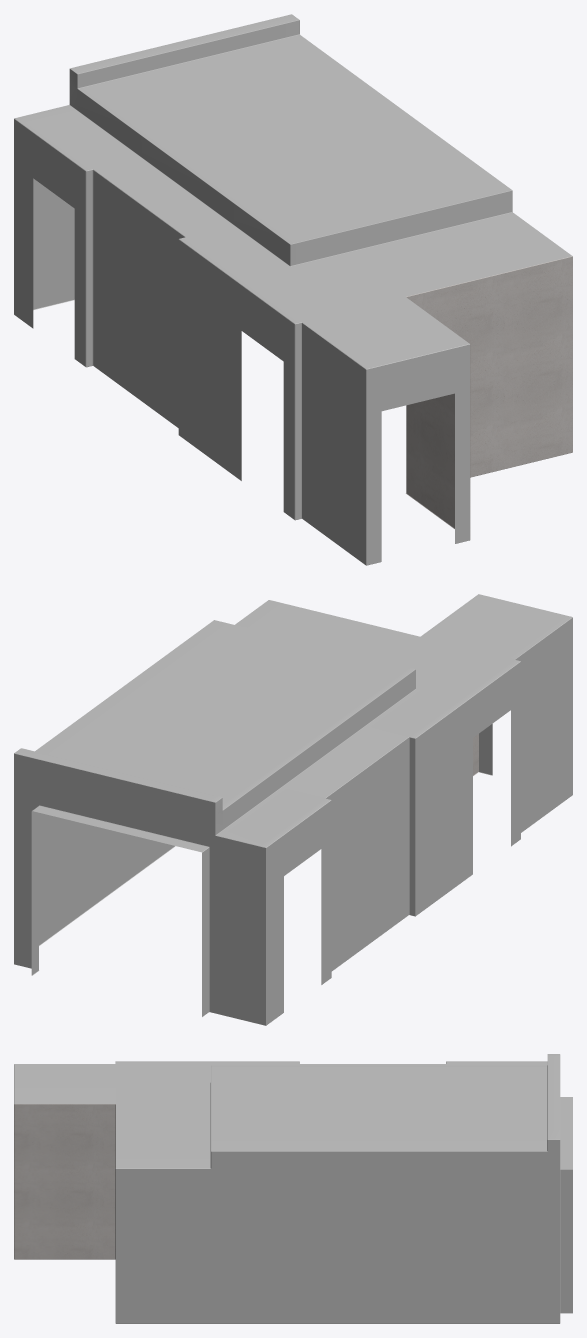
The model's file is Room.obj.
3 renders of one model, top to bottom at view 1: azimuth 30°, elevation 25°; view 2: azimuth 150°, elevation 25°; view 3: azimuth 270°, elevation 25°, orthographic. The views are drawn at different scales.
Parts seen in each view (by area): view 1: SM_Room_7_SM_CeilingPiece, WallPiece4_28_SM_WallPiece4, WallPiece2_24_SM_WallPiece2.001, WallPiece3_26_SM_WallPiece3, WallPiece5_30_SM_WallPiece5; view 2: SM_Room_7_SM_CeilingPiece, WallPiece4_28_SM_WallPiece4, WallPiece5_30_SM_WallPiece5, WallPiece3_26_SM_WallPiece3, WallPiece1_22_SM_WallPiece1; view 3: WallPiece1_22_SM_WallPiece1, SM_Room_7_SM_CeilingPiece, WallPiece2_24_SM_WallPiece2.001, WallPiece5_30_SM_WallPiece5.
Part boxes in pixels (left/top/right/bottom): SM_Room_7_SM_CeilingPiece: left=15, top=14, right=572, bottom=368; WallPiece4_28_SM_WallPiece4: left=14, top=118, right=294, bottom=519; WallPiece2_24_SM_WallPiece2.001: left=406, top=256, right=572, bottom=539; WallPiece3_26_SM_WallPiece3: left=294, top=322, right=469, bottom=565; WallPiece5_30_SM_WallPiece5: left=33, top=178, right=74, bottom=310; SM_Room_7_SM_CeilingPiece: left=14, top=594, right=571, bottom=847; WallPiece4_28_SM_WallPiece4: left=266, top=661, right=520, bottom=1025; WallPiece5_30_SM_WallPiece5: left=14, top=753, right=265, bottom=1025; WallPiece3_26_SM_WallPiece3: left=479, top=617, right=572, bottom=832; WallPiece1_22_SM_WallPiece1: left=39, top=813, right=175, bottom=945; WallPiece1_22_SM_WallPiece1: left=115, top=1139, right=559, bottom=1323; SM_Room_7_SM_CeilingPiece: left=14, top=1054, right=559, bottom=1168; WallPiece2_24_SM_WallPiece2.001: left=14, top=1104, right=115, bottom=1259; WallPiece5_30_SM_WallPiece5: left=560, top=1054, right=572, bottom=1323.
Bounding box in the file's own units: 4 × 3.2 × 8.8.
